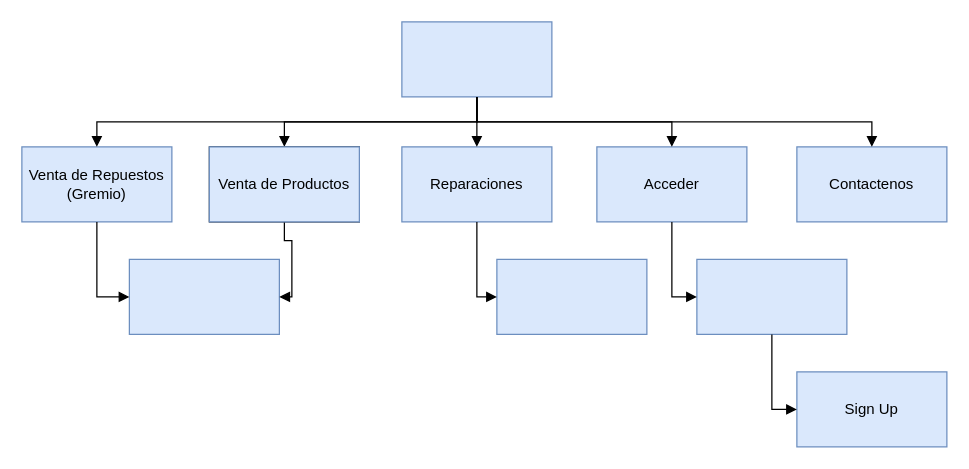
Image size: 969x469. Some labels were removed from this diagram. Here are the shapes that lost their labels. From the top down, the centre of each, then its label:
point 476,59: Home
point 203,296: Producto
point 571,296: Diagnóstico en Tiempo Real
point 771,296: Login
